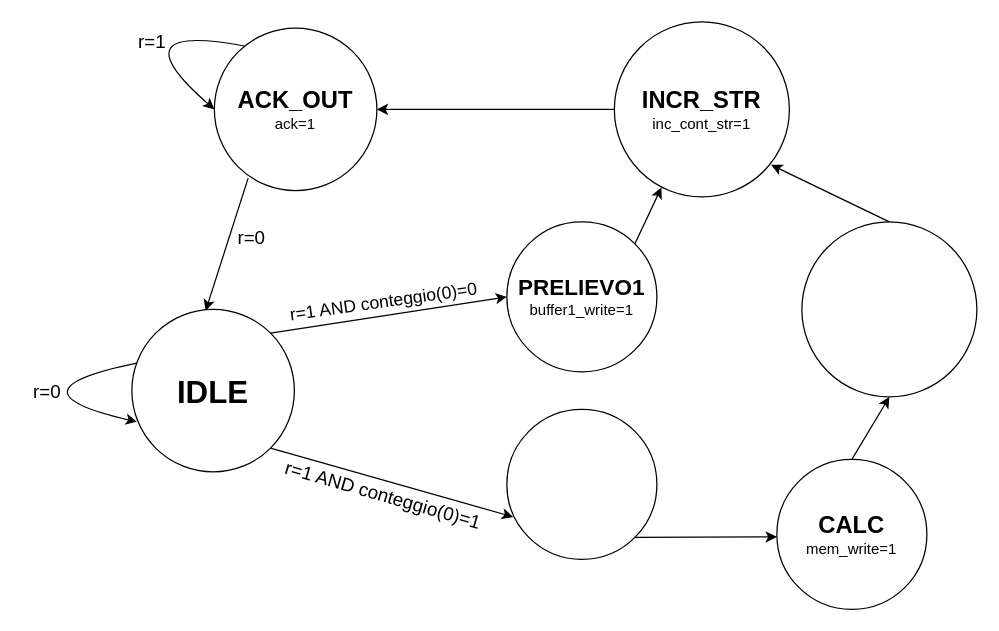
Some shapes in this 999 by 631 pixel diagram are drawn without their labels. The shapes that lost their labels are listed below. From the top down, each one's centre as x and y in pixels, then its label:
the point at 889,309: INCR_MEM inc_cont_mem=1
the point at 581,483: PRELIEVO2 buffer2_write
